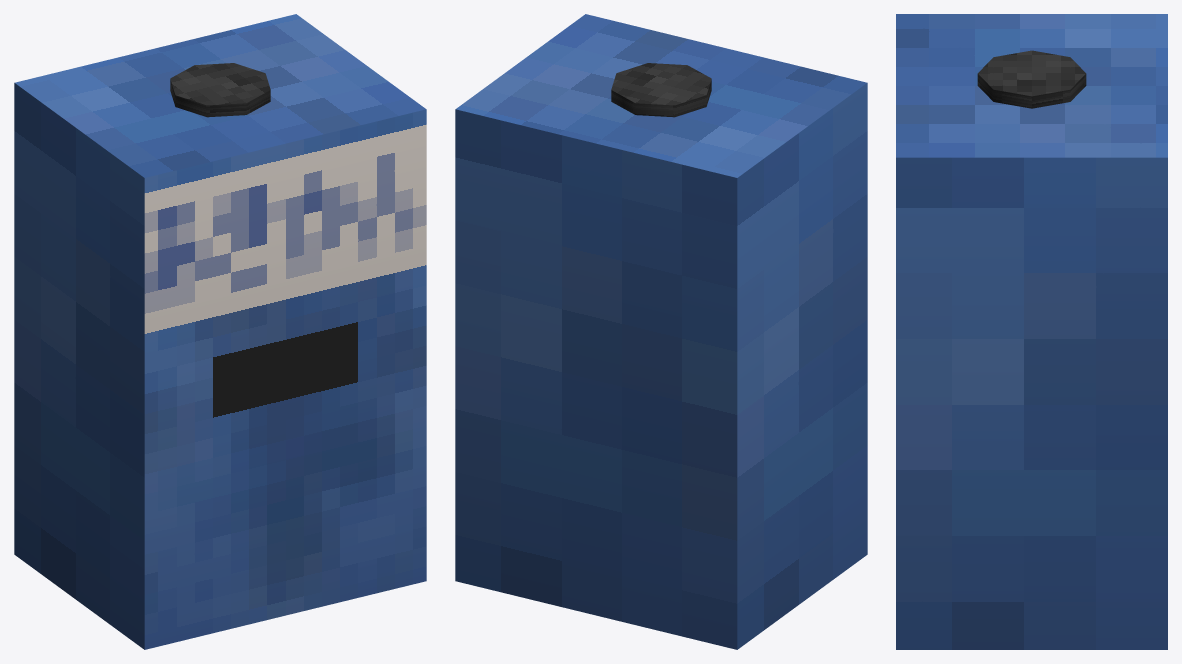
File: can_bin.glb
3 renders of one model, left to right at view 1: azimuth 30°, elevation 25°; view 2: azimuth 150°, elevation 25°; view 3: azimuth 270°, elevation 25°, orthographic. The views are drawn at different scales.
Parts seen in each view (by area): view 1: can_bin; view 2: can_bin; view 3: can_bin.
Part boxes in pixels (left/top/right/bottom): can_bin: left=14, top=14, right=426, bottom=649; can_bin: left=455, top=14, right=867, bottom=649; can_bin: left=896, top=14, right=1167, bottom=649.
Size of the model in its own units: 0.5 by 0.82 by 0.4.
1 material, 1 textured.
